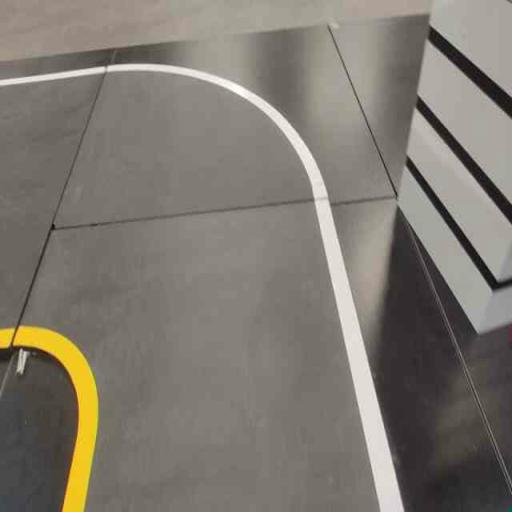left: (5, 42, 425, 442)
